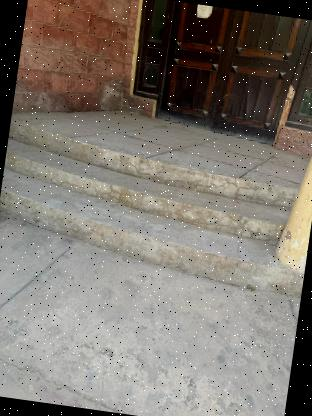door: (121, 0, 312, 147)
stair: (0, 110, 312, 298)
